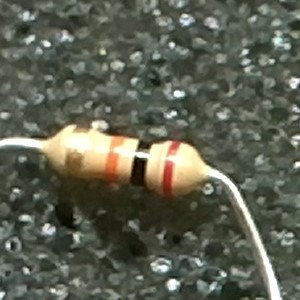black_band: (126, 139, 155, 187)
gold_band: (60, 124, 94, 180)
orange_band: (98, 134, 127, 184)
red_band: (160, 138, 184, 201)
